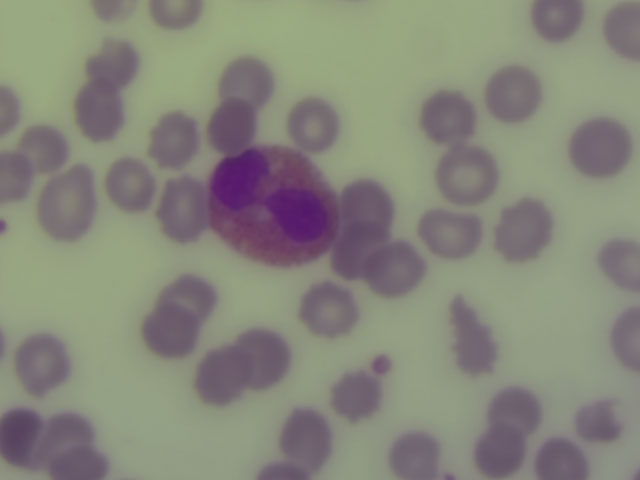Platelets: (370, 352, 397, 382)
RBC: (158, 175, 211, 244), (472, 422, 528, 480), (387, 422, 443, 480), (495, 201, 551, 258), (421, 205, 477, 262), (438, 145, 494, 202), (420, 90, 476, 147), (573, 392, 629, 449), (488, 383, 544, 440), (448, 313, 504, 370), (569, 120, 625, 177), (486, 66, 542, 123), (341, 174, 397, 231), (331, 222, 387, 279), (370, 242, 426, 299), (327, 370, 383, 427), (277, 411, 333, 468), (299, 281, 355, 338), (234, 327, 290, 384), (192, 350, 248, 407), (35, 404, 91, 461), (14, 336, 70, 393), (283, 94, 339, 151), (218, 51, 274, 108), (205, 98, 261, 155), (144, 111, 200, 168), (101, 157, 157, 214), (39, 178, 95, 235), (14, 120, 70, 177), (72, 84, 128, 141), (84, 34, 140, 91), (598, 231, 640, 297), (142, 307, 197, 356), (606, 303, 640, 379), (602, 1, 640, 65), (161, 275, 219, 316), (49, 444, 115, 480), (528, 1, 583, 43), (1, 405, 40, 464), (534, 441, 589, 480), (144, 1, 206, 31), (1, 152, 35, 206), (1, 78, 22, 137), (92, 1, 138, 27)
WBC: (211, 146, 333, 259)
